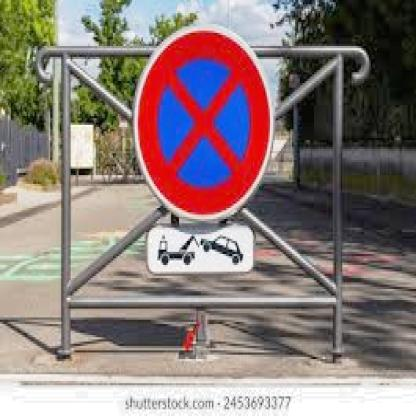No stopping: (134, 25, 271, 218)
